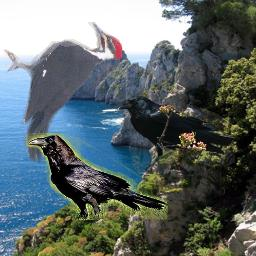Crow: (26, 133, 168, 220), (113, 93, 235, 174)
Woodpecker: (3, 22, 126, 164)
